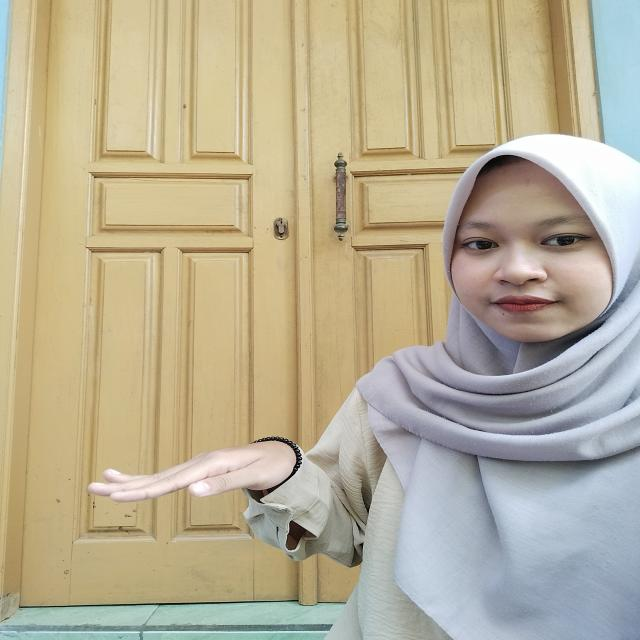adik: (68, 429, 327, 536)
